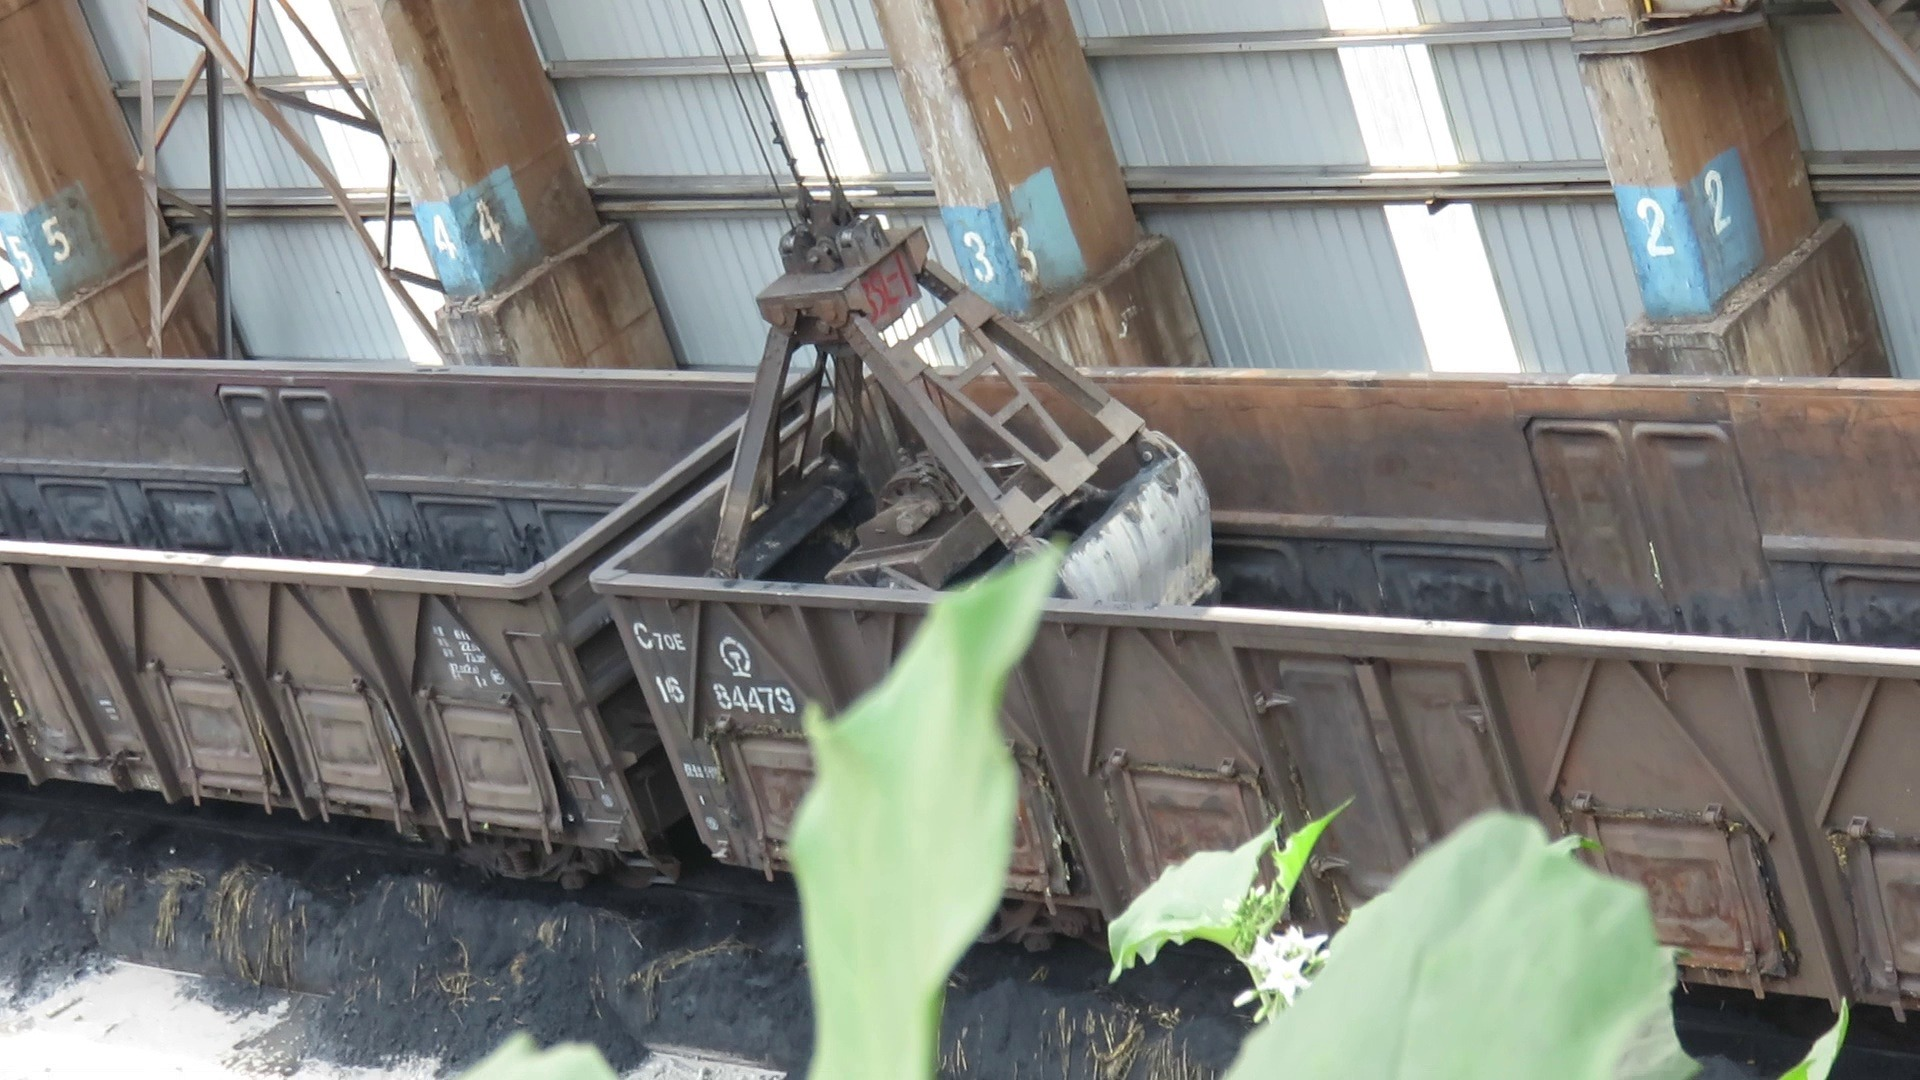grab: (700, 191, 1224, 622)
